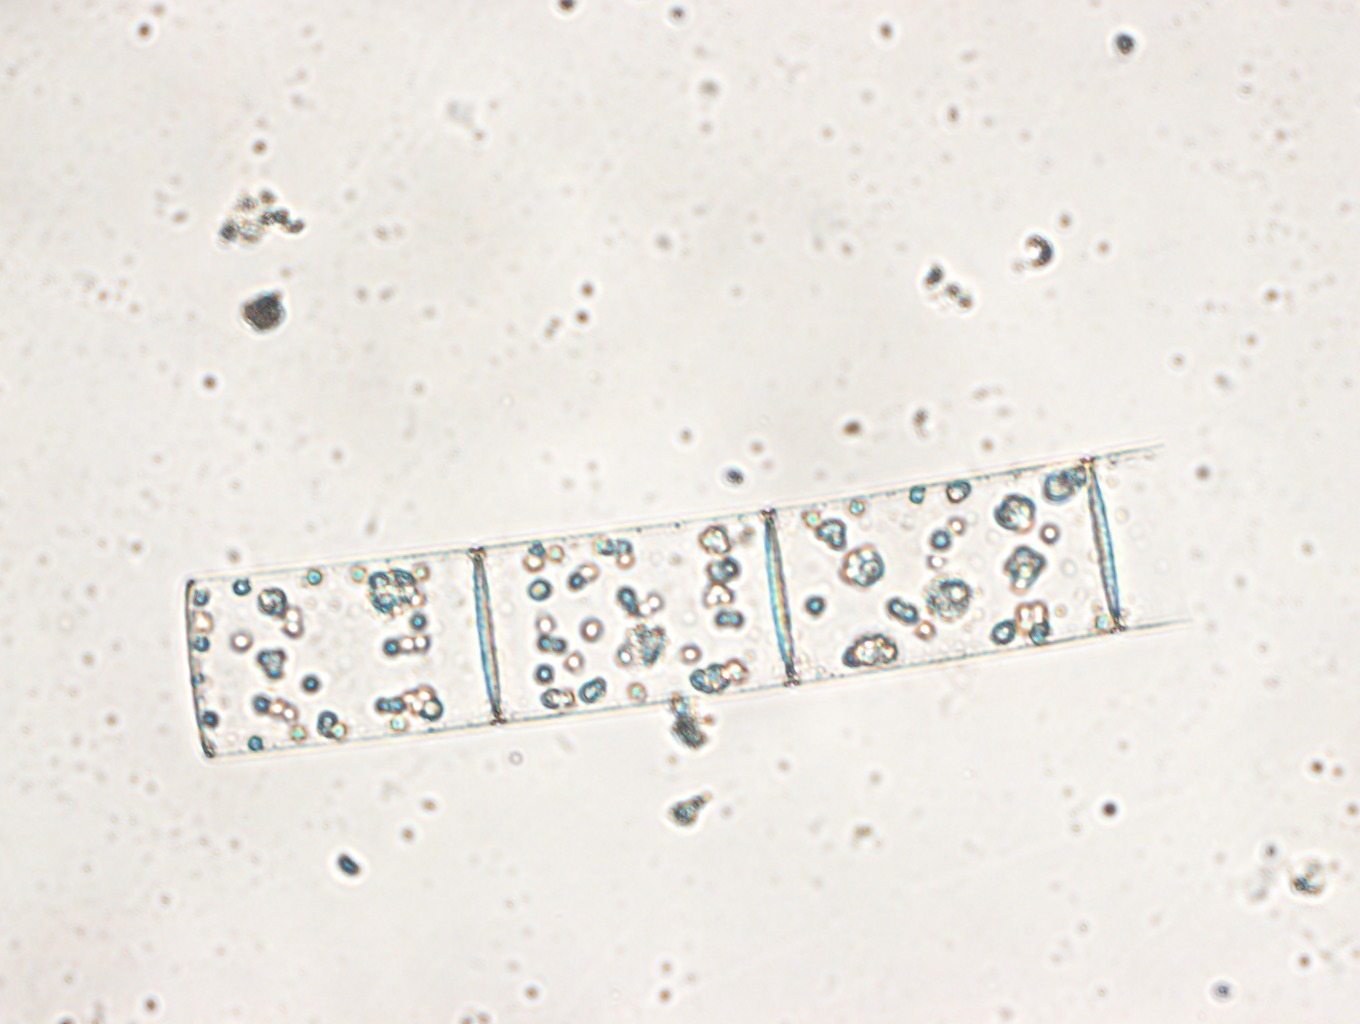guinardia flaccida: (184, 443, 1177, 758)
